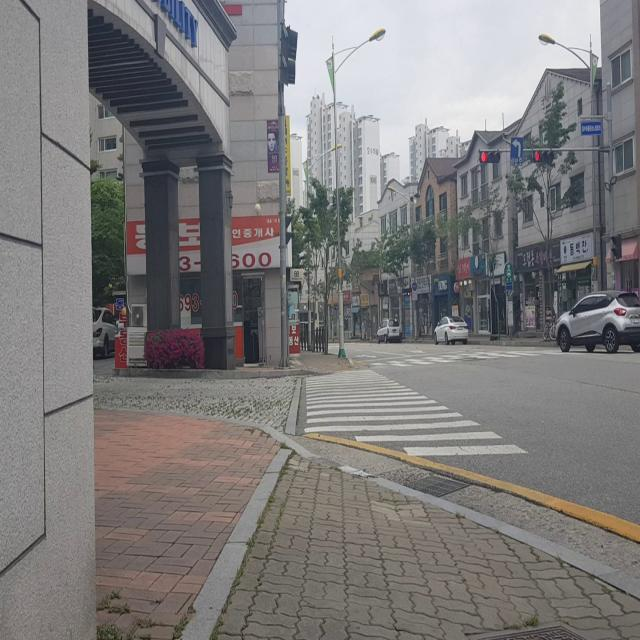횡단보도: (302, 366, 530, 458), (368, 348, 566, 362)
